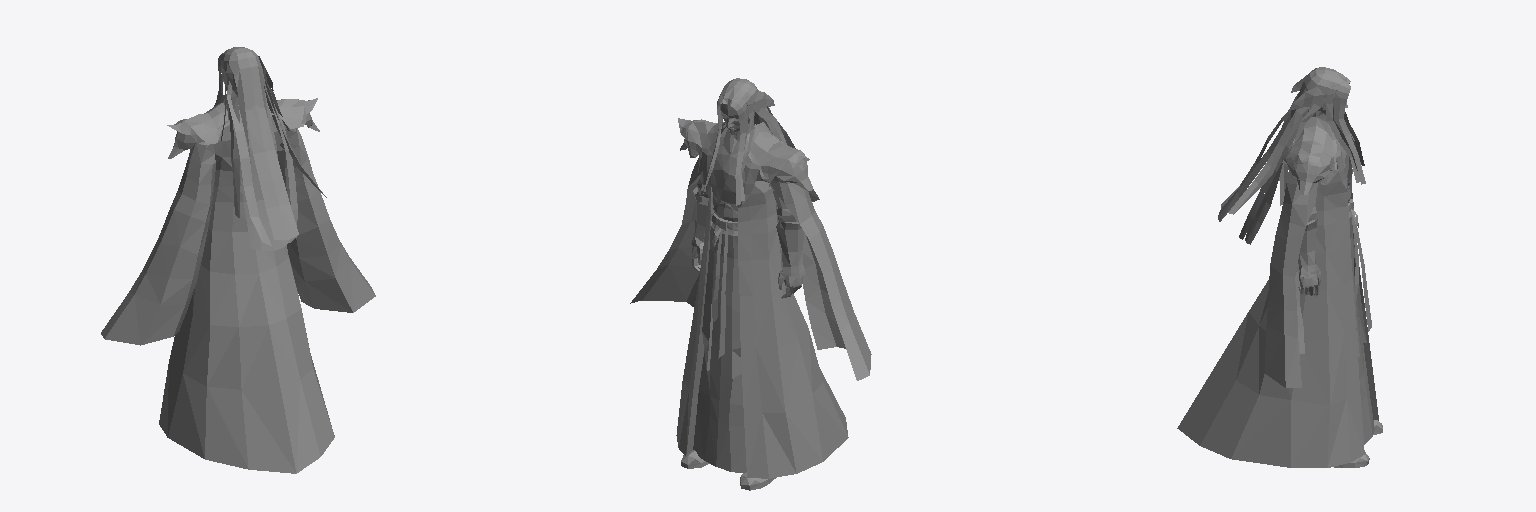
Rendered from pencuri.obj.
The picture shows the model from 3 angles: view 1: azimuth 30°, elevation 25°; view 2: azimuth 150°, elevation 25°; view 3: azimuth 270°, elevation 25°; orthographic projection.
Parts seen in each view (by area): view 1: 38fb298_obj, 38f8878_obj, 38fbd20_obj, 35cf06a0_obj; view 2: 38fb298_obj, 38fbd20_obj, 38f8878_obj; view 3: 38fb298_obj, 38f8878_obj, 38fbd20_obj.
Boxes of the visible parts, x1,y1,x2,y2 form: 38fb298_obj: [101, 114, 375, 473]; 38f8878_obj: [214, 47, 300, 208]; 38fbd20_obj: [167, 95, 319, 158]; 35cf06a0_obj: [266, 204, 298, 239]; 38fb298_obj: [630, 124, 871, 478]; 38fbd20_obj: [678, 118, 812, 359]; 38f8878_obj: [709, 78, 795, 175]; 38fb298_obj: [1177, 120, 1378, 467]; 38f8878_obj: [1238, 67, 1358, 206]; 38fbd20_obj: [1282, 117, 1371, 331].
Bounding box in the file's own units: 12.77 × 18.24 × 8.95.